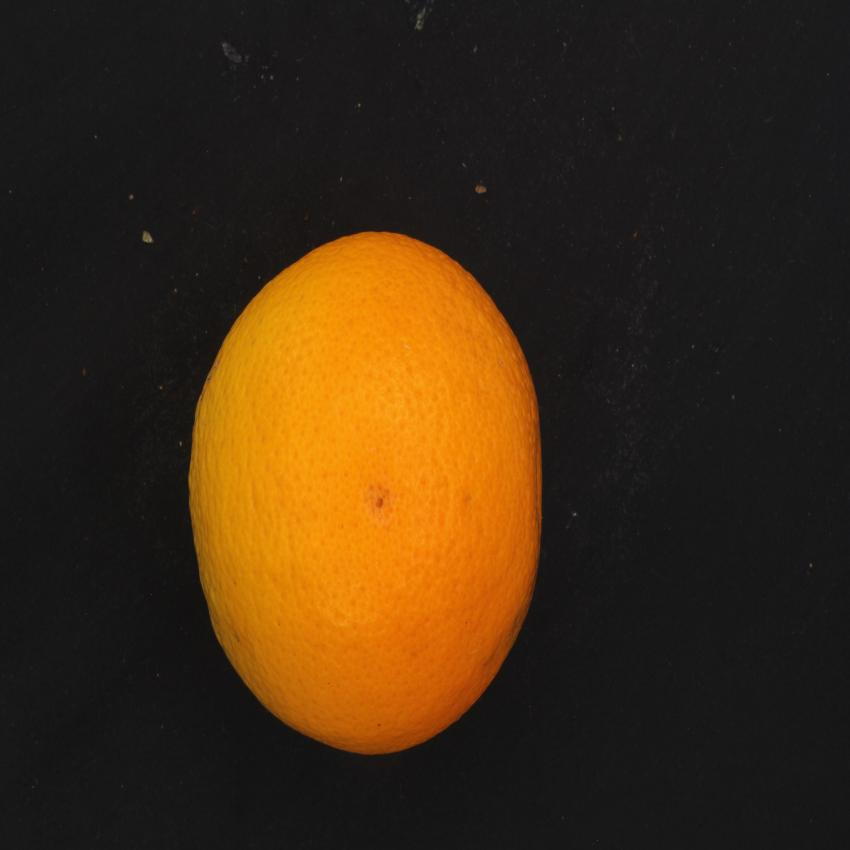Buen estado: (178, 218, 552, 767)
